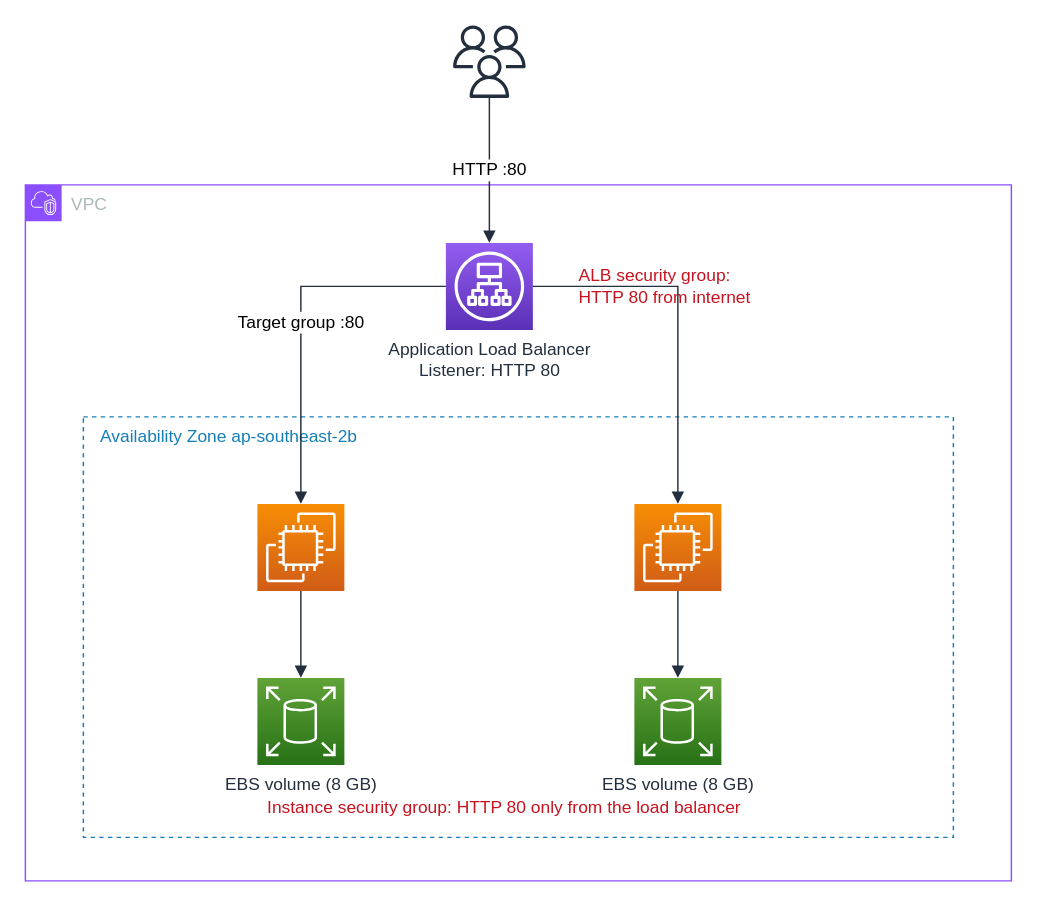
This 1037x906 diagram has some shape labels left out. The centre of each missing label's shape, as x and y in pixels:
"EC2 instance 1 Ubuntu + Apache" belongs at pixel 300 546.
"EC2 instance 2 Ubuntu + Apache" belongs at pixel 677 546.
"User (browser)" belongs at pixel 488 61.
